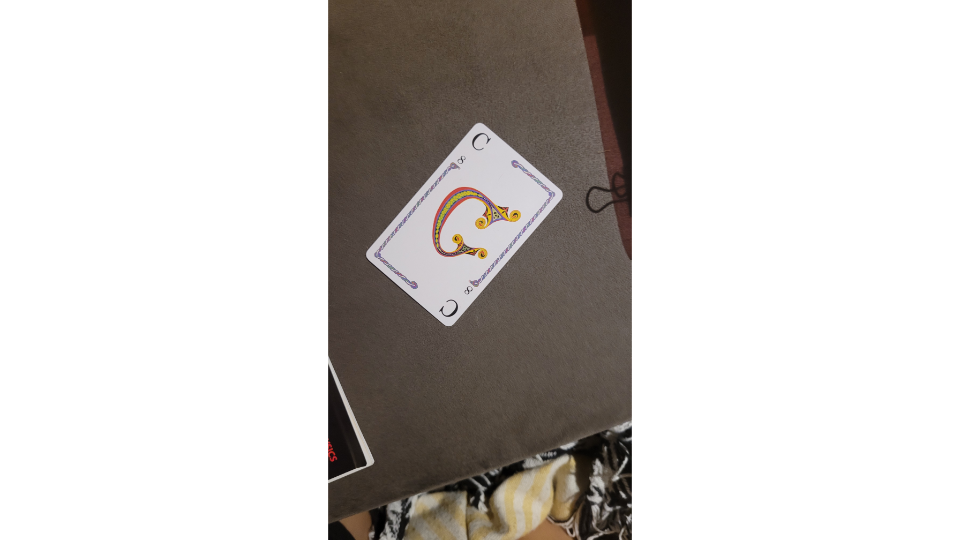C: (363, 119, 566, 330)
